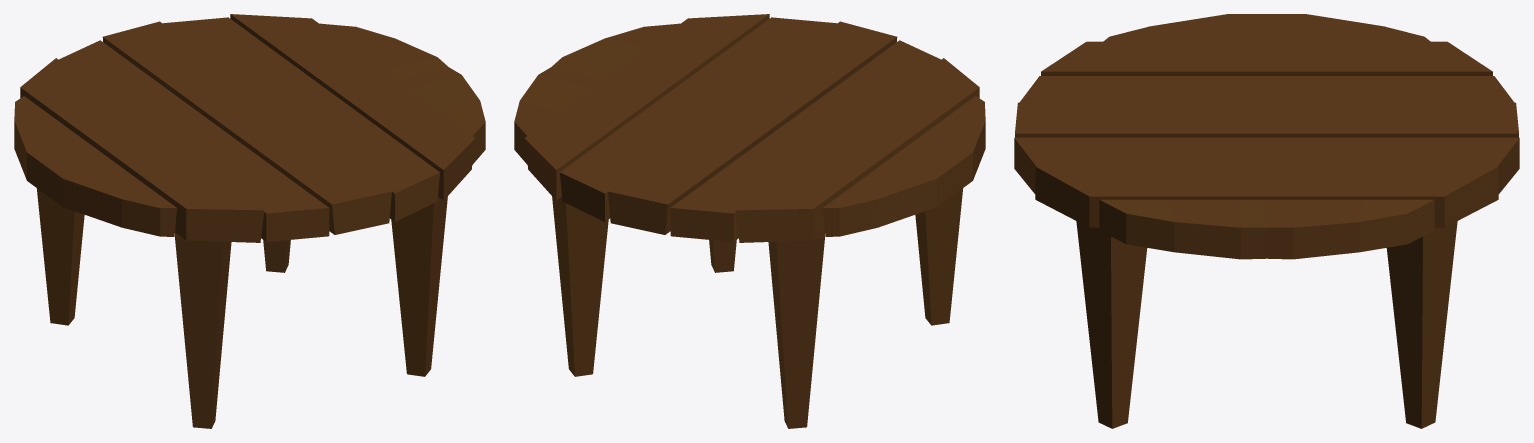
File: Circletable .fbx
3 views of the same model, side by side, from view 1: azimuth 30°, elevation 25°; view 2: azimuth 150°, elevation 25°; view 3: azimuth 270°, elevation 25° (orthographic). The views are drawn at different scales.
Parts seen in each view (by area): view 1: Cube; view 2: Cube; view 3: Cube.
Part boxes in pixels (x1,y1,x2,y2): Cube: [14, 14, 485, 428]; Cube: [514, 14, 985, 428]; Cube: [1014, 14, 1519, 428].
Bounding box in the file's own units: 1319 × 721 × 1314.
